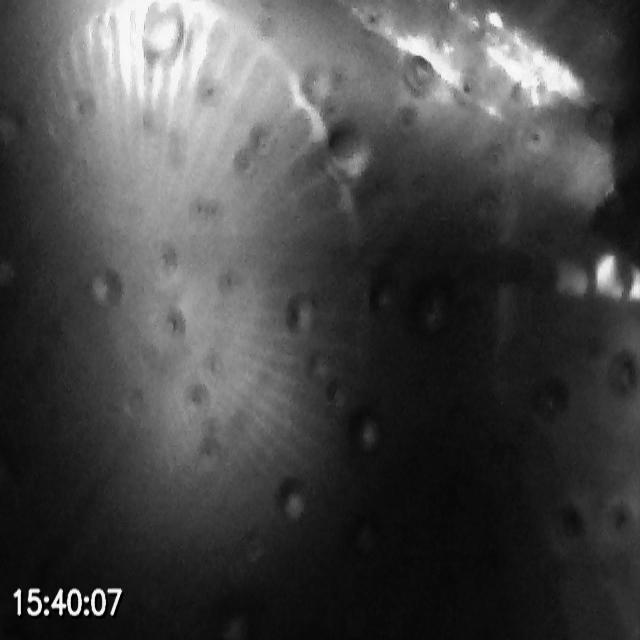white-dots: (557, 250, 640, 305)
